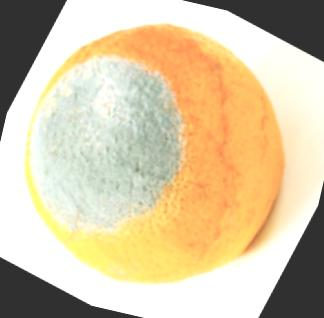Orange Rotten: (0, 0, 320, 317)
